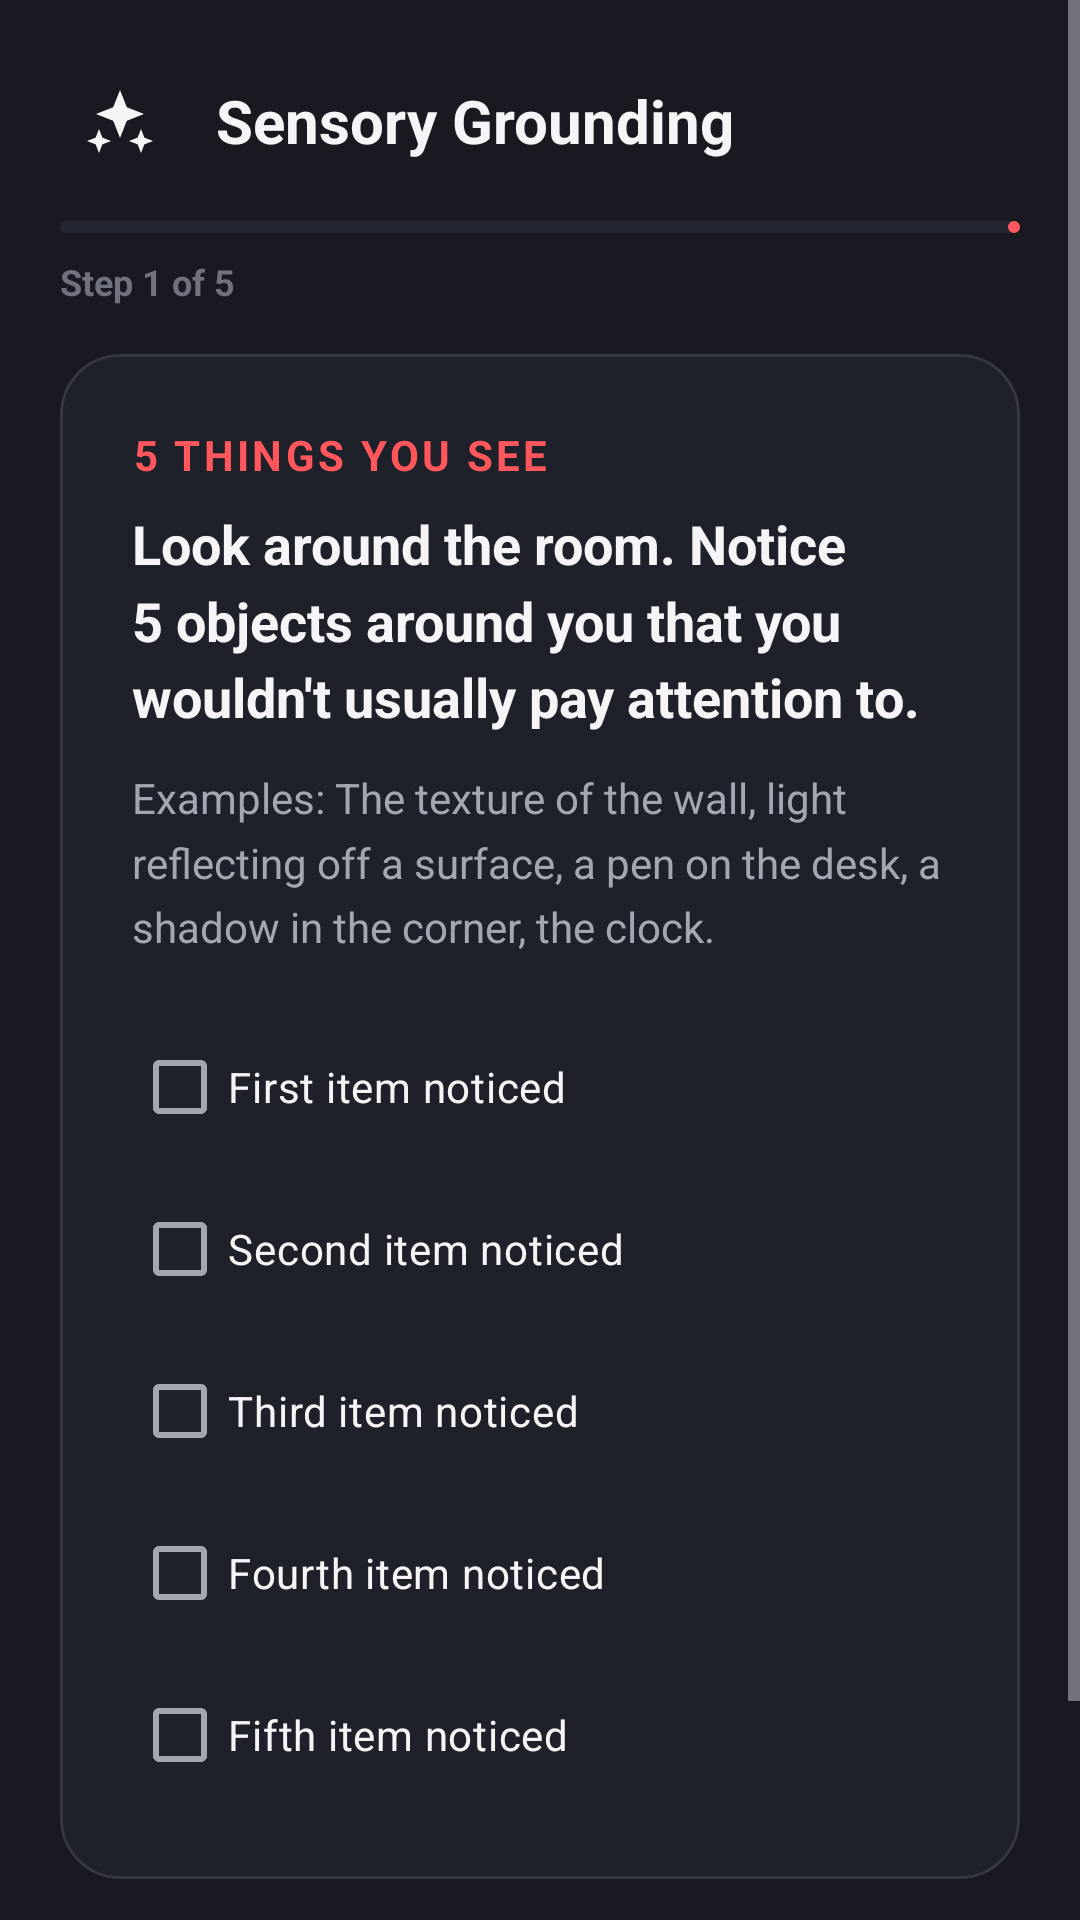

Point at icon controls on the screen. Image size 1080 x 1920, points as (x=x, y=y).
sparkle: (x=120, y=121)
